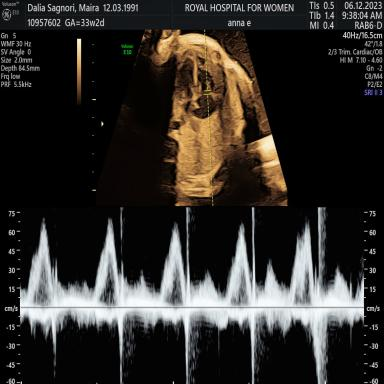Ultrasound-Waves: (26, 207, 361, 384)
